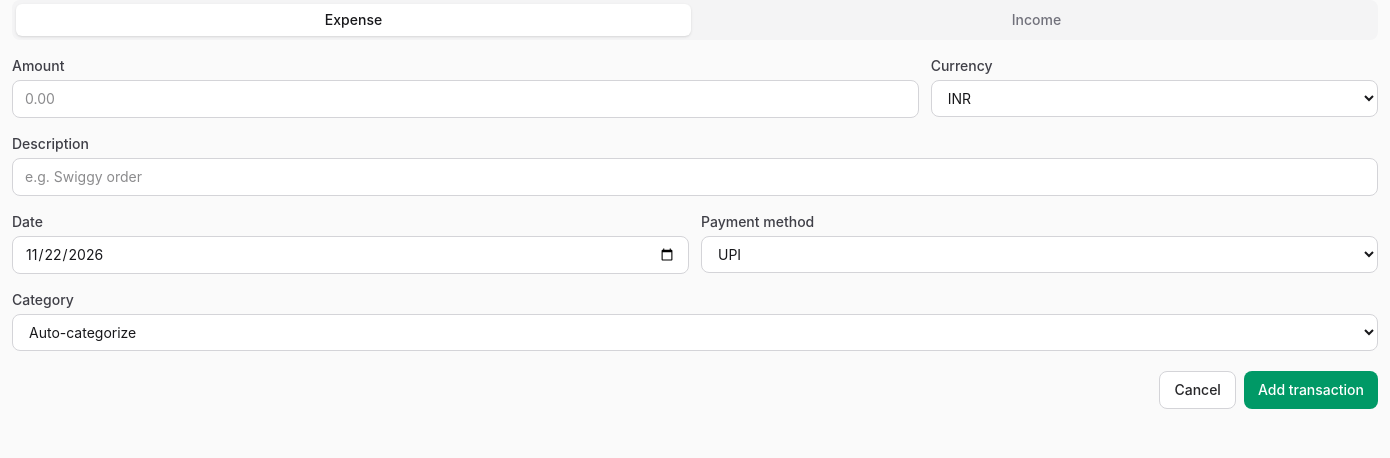
TransactionForm › suggests a category while typing and applies it
The width and height of the screenshot is (1390, 458).
Type "Uber to office" into the field labelled "Description" at (695, 177), box top-left (12, 158), bottom-right (1378, 196)
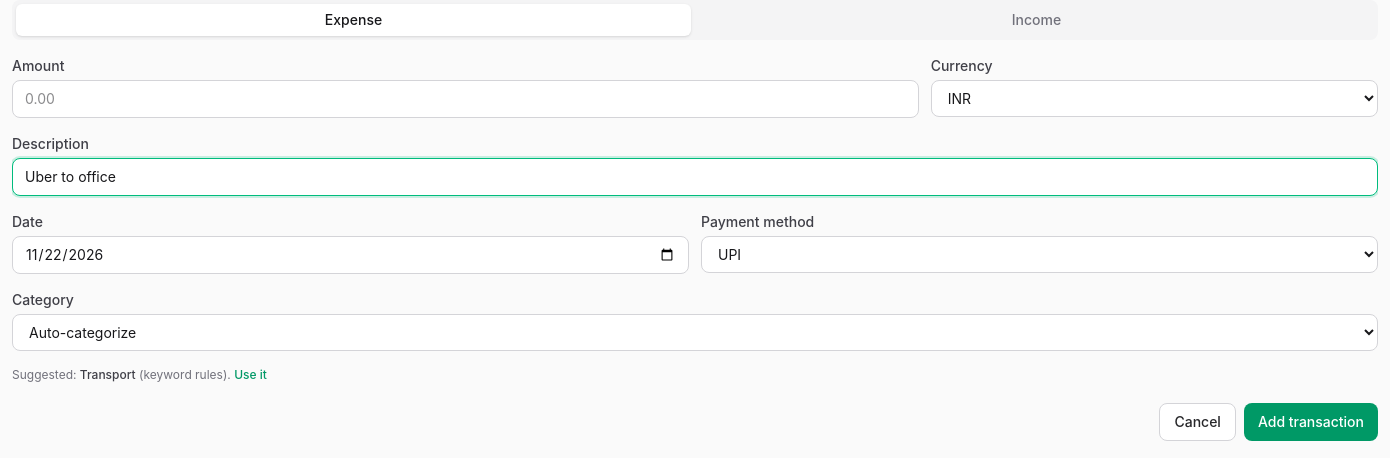
Expected: the text "Transport" is shown, top-left (80, 367), bottom-right (136, 382)
Expected: the text "Suggested: Transport (keyword rules). Use it" is shown, top-left (12, 367), bottom-right (267, 383)
Click the button "Use it" at (251, 375), box top-left (234, 367), bottom-right (267, 383)
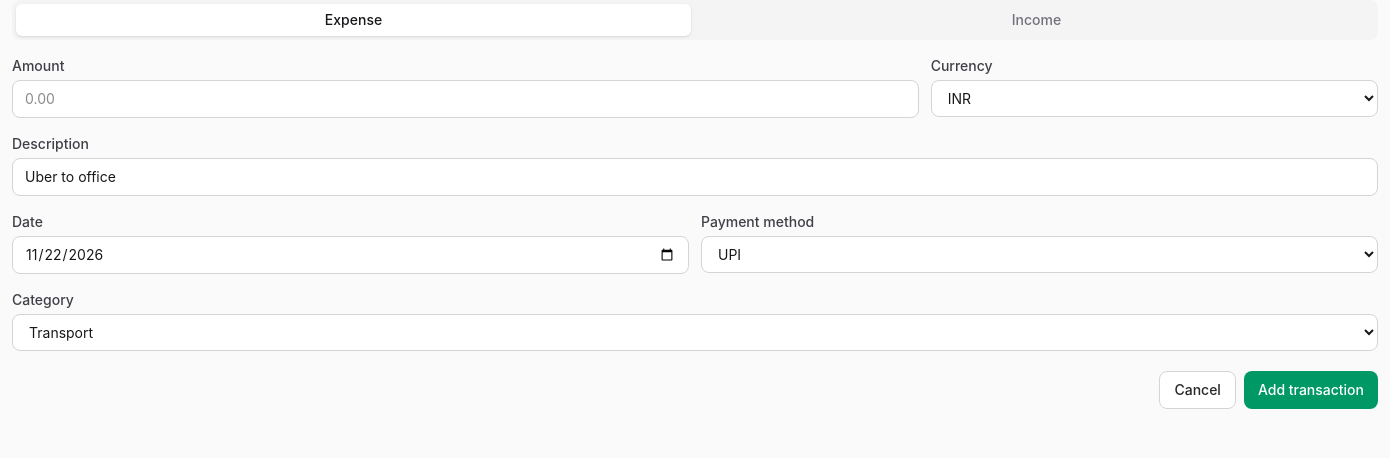
Expected: the dropdown labelled "Category" shows "Transport", top-left (12, 314), bottom-right (1378, 351)
